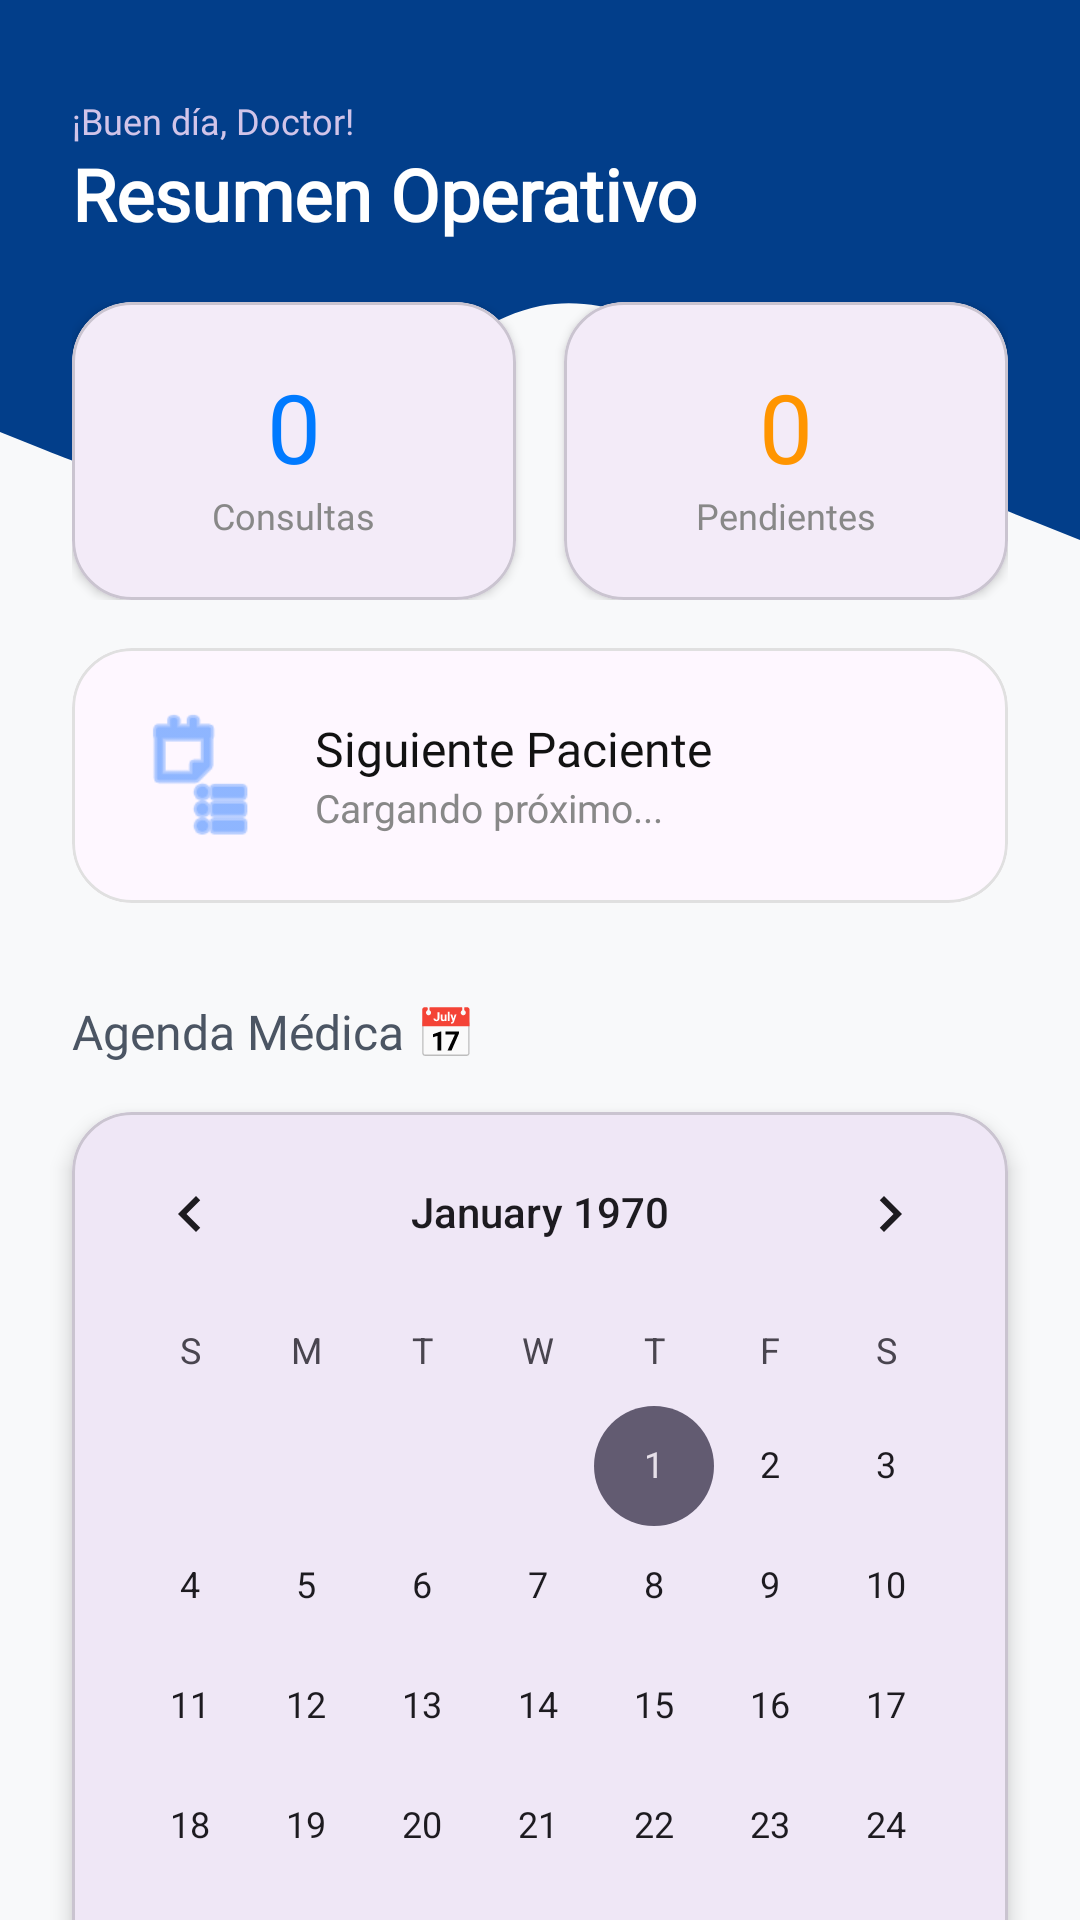

Where to tap for icons on this 1080x1920 app screen, as [x,y]:
agenda: [200,775]
